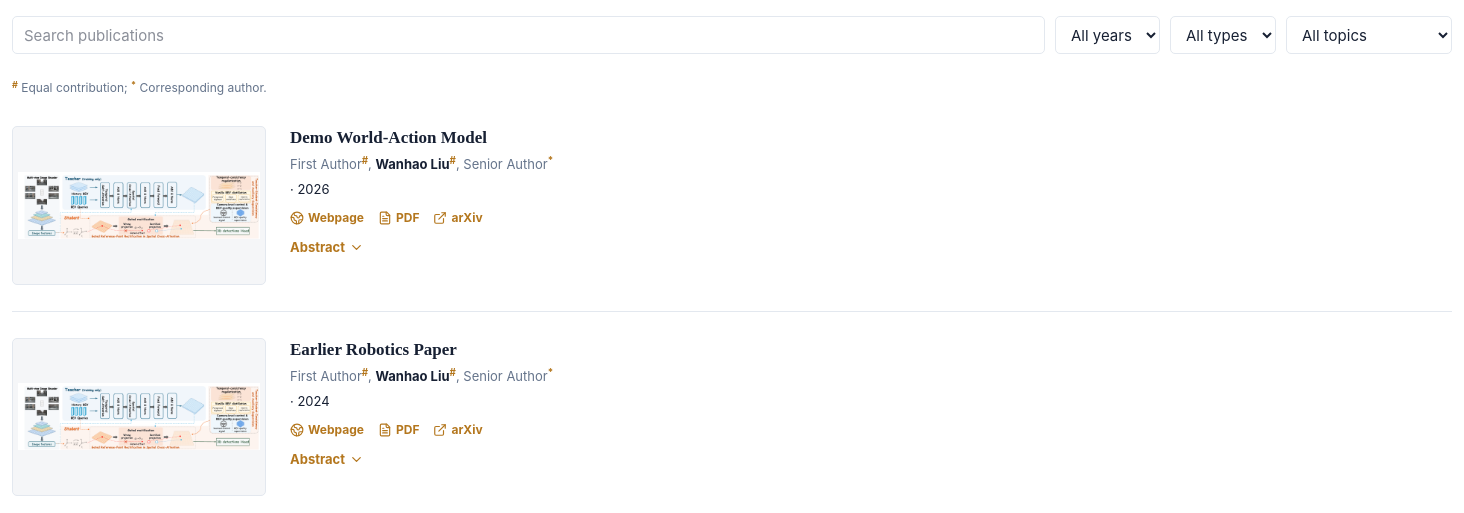
Test: PublicationList › filters publications by year
Select "2024" in the dropdown named "All years" at (1108, 35), box x1=1055 y1=16 x2=1160 y2=54
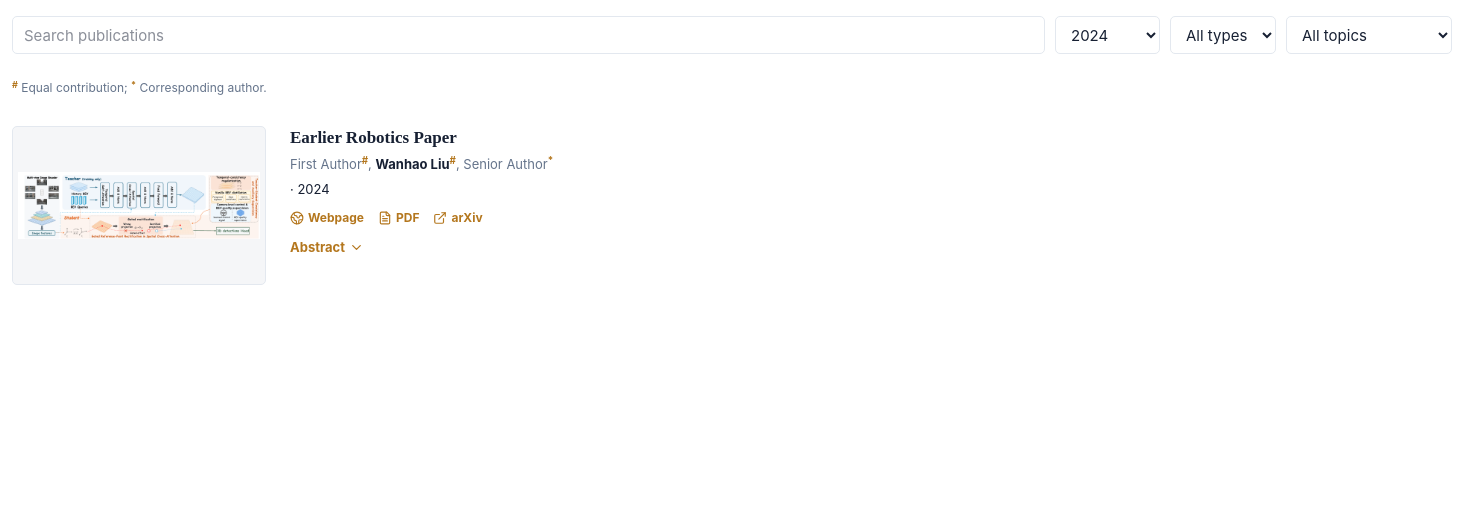
expect the link "Earlier Robotics Paper" is shown: met, box x1=290 y1=128 x2=457 y2=147
expect the link "Demo World-Action Model" is gone: met
